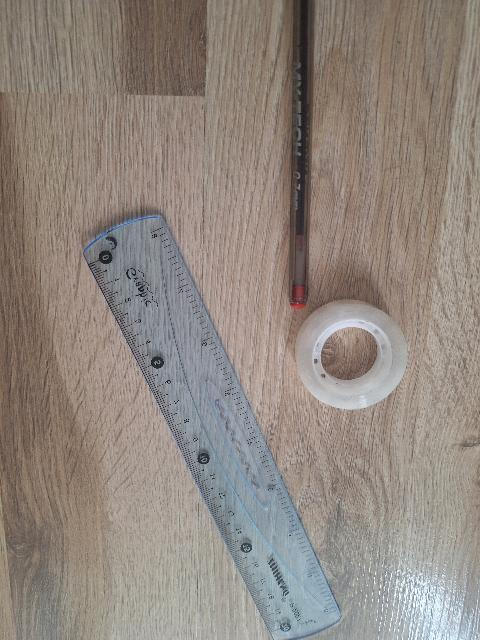writing_tool: (290, 1, 308, 313)
